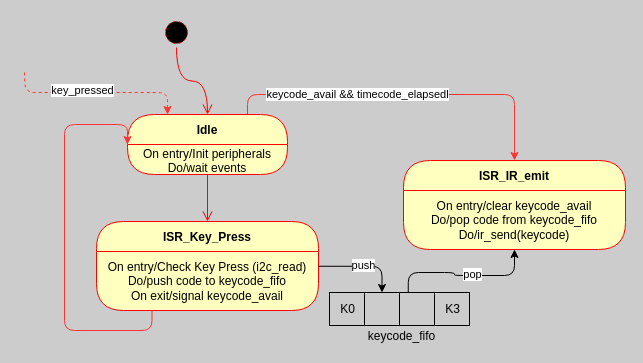
Image size: 643x363. Some labels were removed from this diagram. Here are the shapes that lost their labels. From the top down, the centre of each, then its label:
At (382,309): "K1".
At (416,309): "K2".
